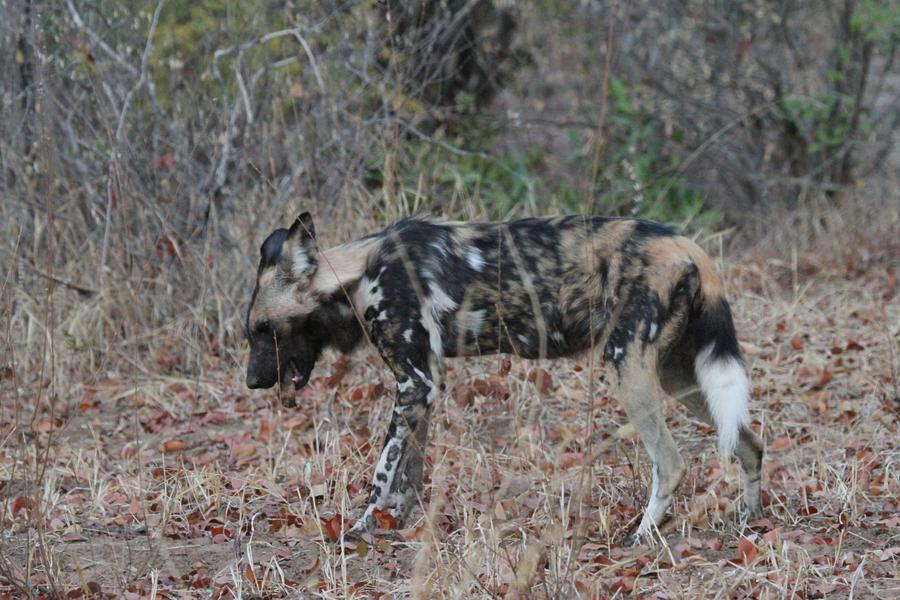wilddog: (270, 198, 711, 373)
